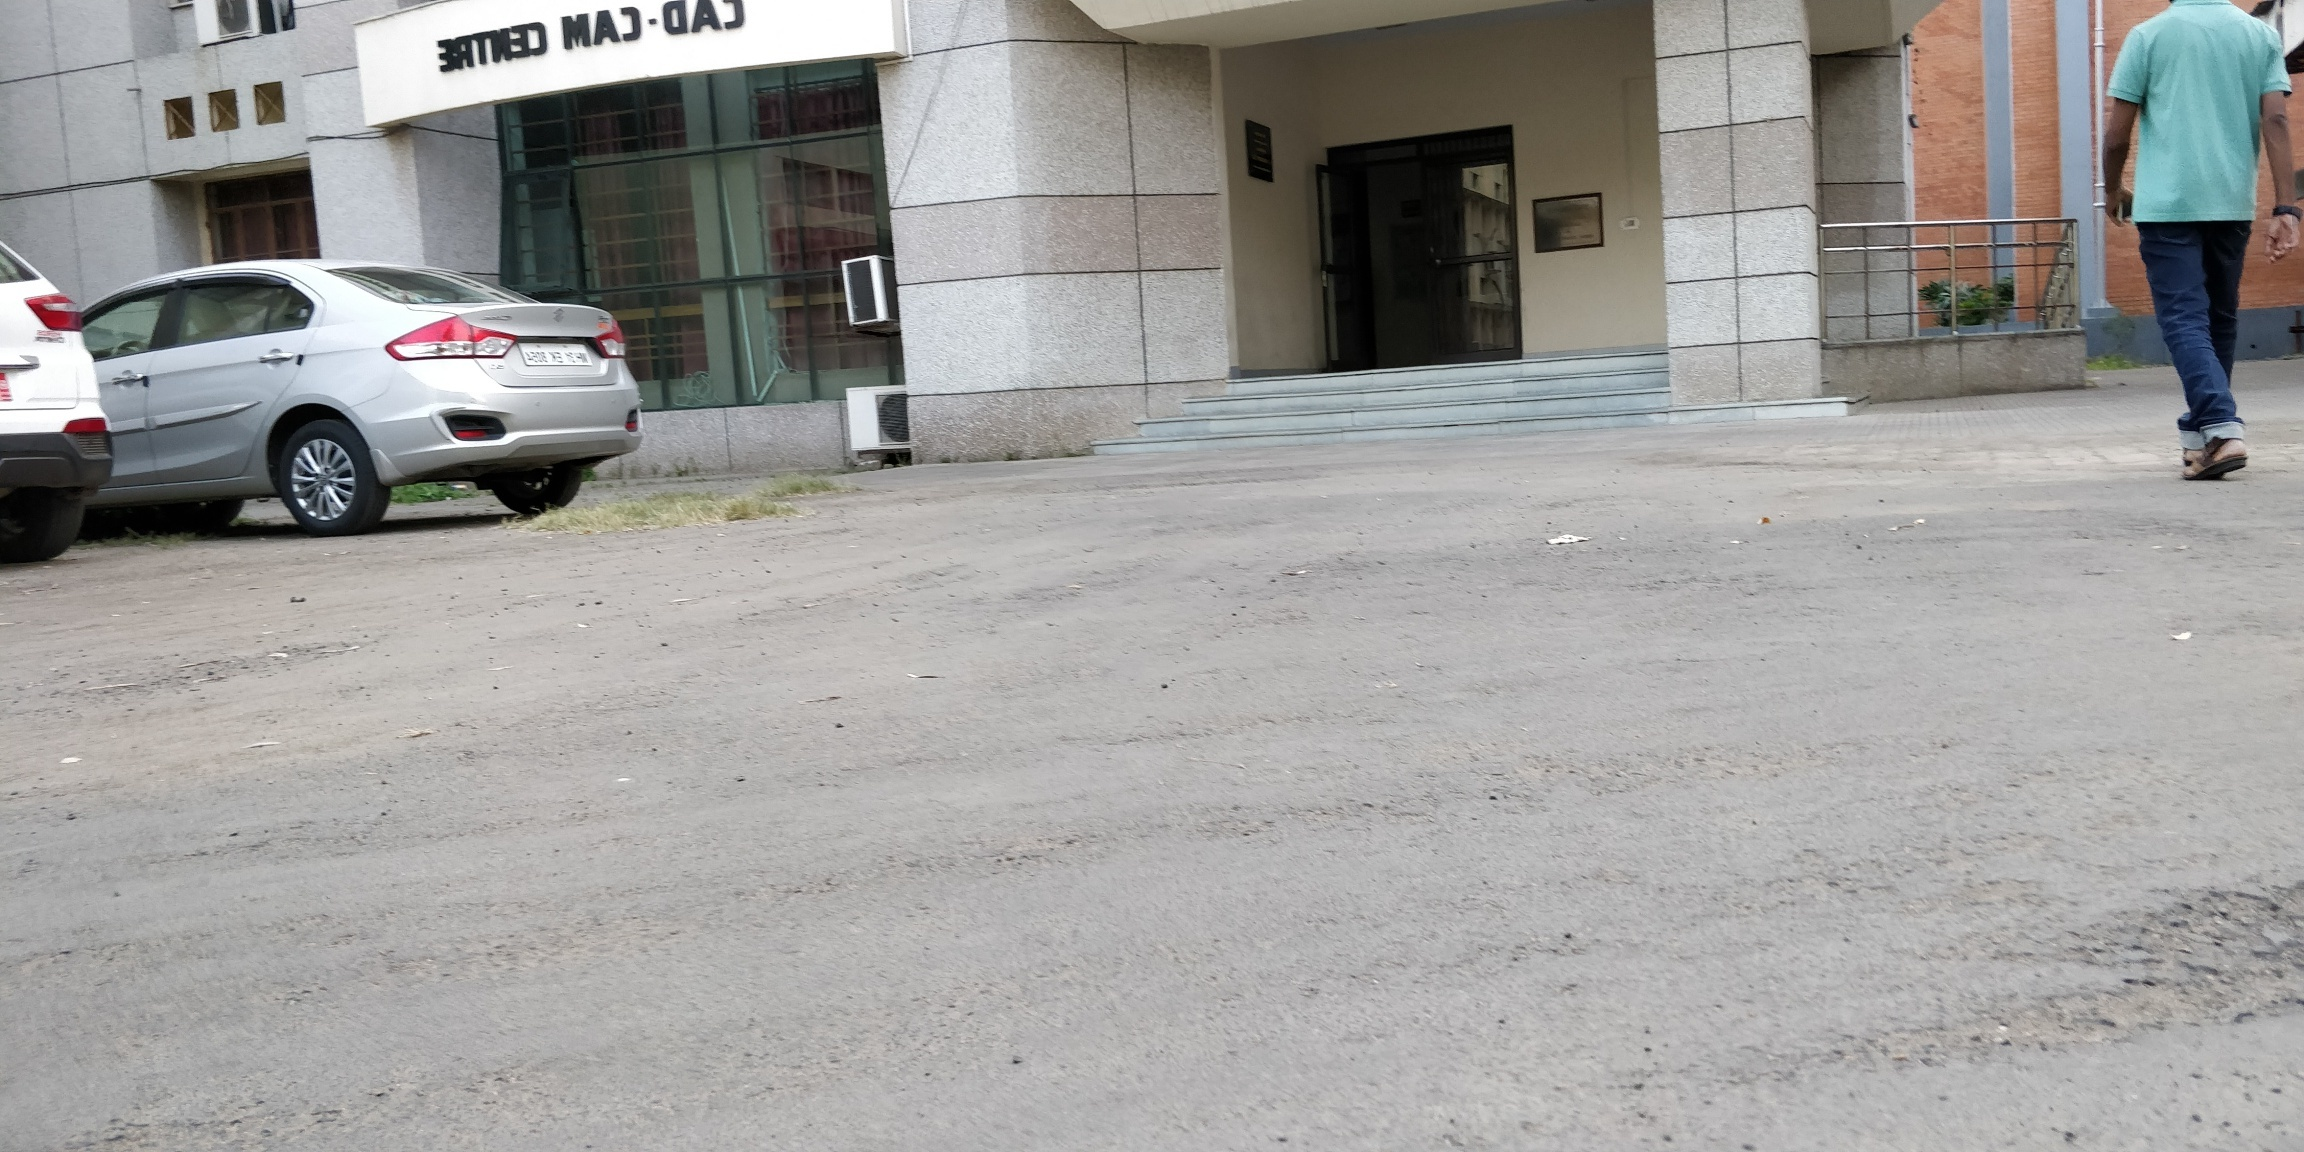stairs_up: (1081, 353, 1684, 436)
